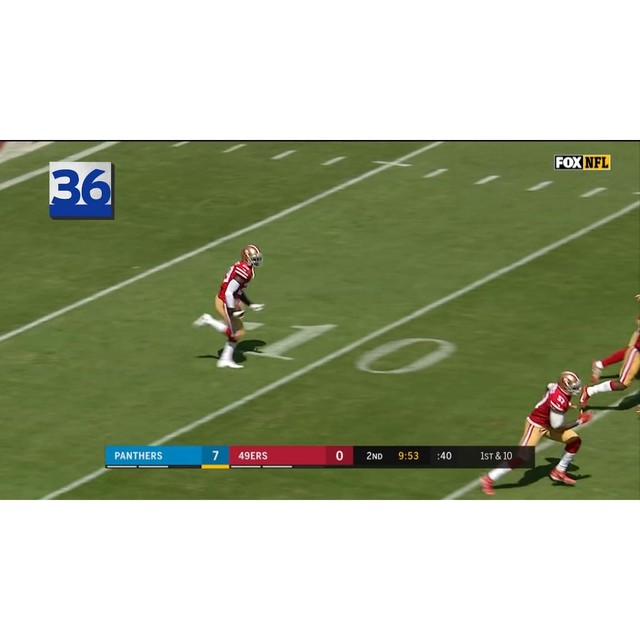american-football-player: (480, 368, 588, 495), (188, 245, 266, 367), (582, 290, 640, 423)
